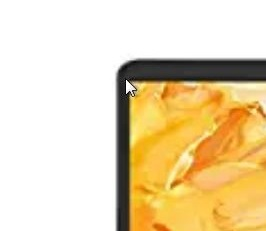cursor: (123, 77, 140, 99)
